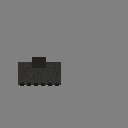armoured_vehicle: (18, 62, 61, 85)
